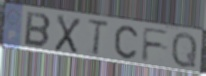B: (23, 10, 53, 49)
C: (114, 24, 140, 61)
F: (140, 26, 171, 63)
Q: (170, 31, 198, 70)
T: (86, 18, 110, 58)
X: (53, 13, 82, 56)
